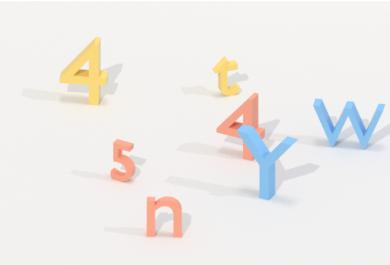4: (56, 33, 114, 110), (214, 90, 269, 164)
5: (108, 135, 140, 185)
W: (309, 94, 388, 153)
Y: (236, 123, 299, 203)
n: (143, 190, 185, 243)
t: (210, 53, 245, 100)
